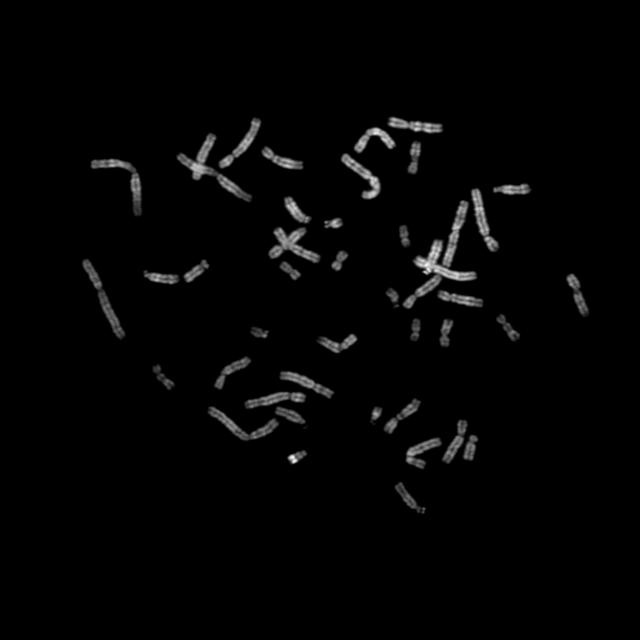chromosome: (178, 154, 250, 202), (82, 258, 124, 339), (90, 159, 142, 215), (207, 407, 277, 441), (220, 116, 260, 168), (342, 154, 381, 200), (471, 188, 499, 250), (442, 200, 468, 266), (274, 228, 320, 264), (414, 254, 476, 280), (281, 370, 334, 400), (384, 398, 421, 434), (403, 274, 441, 308), (442, 419, 468, 463), (268, 228, 306, 258), (192, 132, 215, 180), (354, 128, 396, 154), (407, 437, 441, 469), (215, 358, 251, 388), (246, 392, 306, 410), (261, 147, 303, 171), (567, 274, 589, 316), (395, 484, 425, 514), (388, 116, 442, 132), (319, 334, 357, 354), (284, 197, 312, 223), (438, 291, 482, 307), (423, 239, 441, 275), (496, 314, 520, 340), (276, 406, 306, 424), (185, 260, 209, 282), (154, 365, 174, 389), (492, 183, 530, 194), (408, 142, 420, 174), (441, 318, 454, 346), (142, 274, 178, 284), (279, 262, 299, 280), (464, 436, 478, 460), (332, 250, 346, 270), (289, 450, 307, 464), (398, 226, 409, 248), (411, 319, 421, 341), (324, 218, 342, 230), (371, 406, 382, 424), (252, 327, 268, 338), (386, 288, 398, 302)
